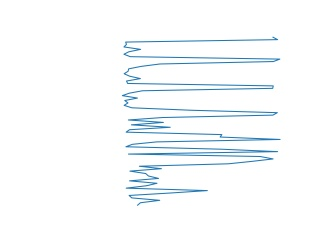crevasseRiverChannelBar: (120, 162, 268, 205)
majorRiverBedLagDeposit: (121, 121, 284, 162)
majorRiverChannelBar: (117, 34, 281, 119)
